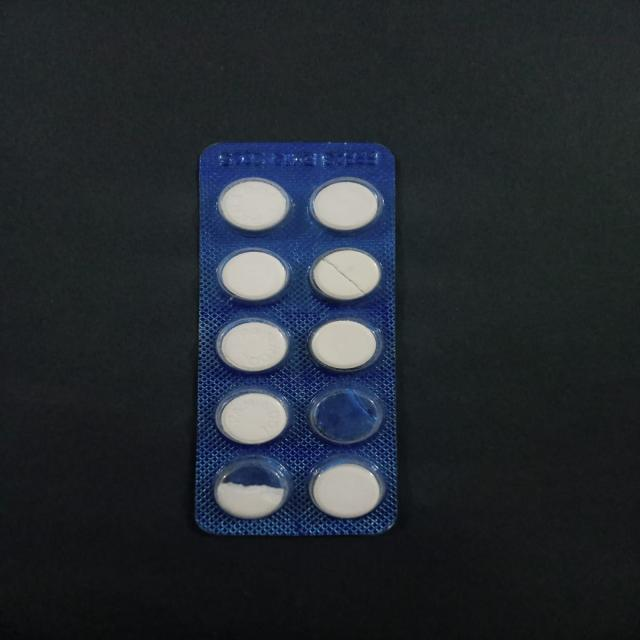defect: (210, 453, 296, 521), (304, 381, 388, 450), (307, 245, 385, 303)
